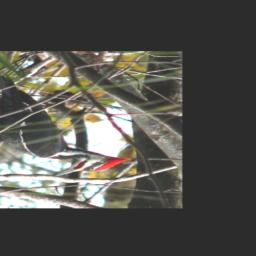Woodpecker: (0, 63, 131, 177)
